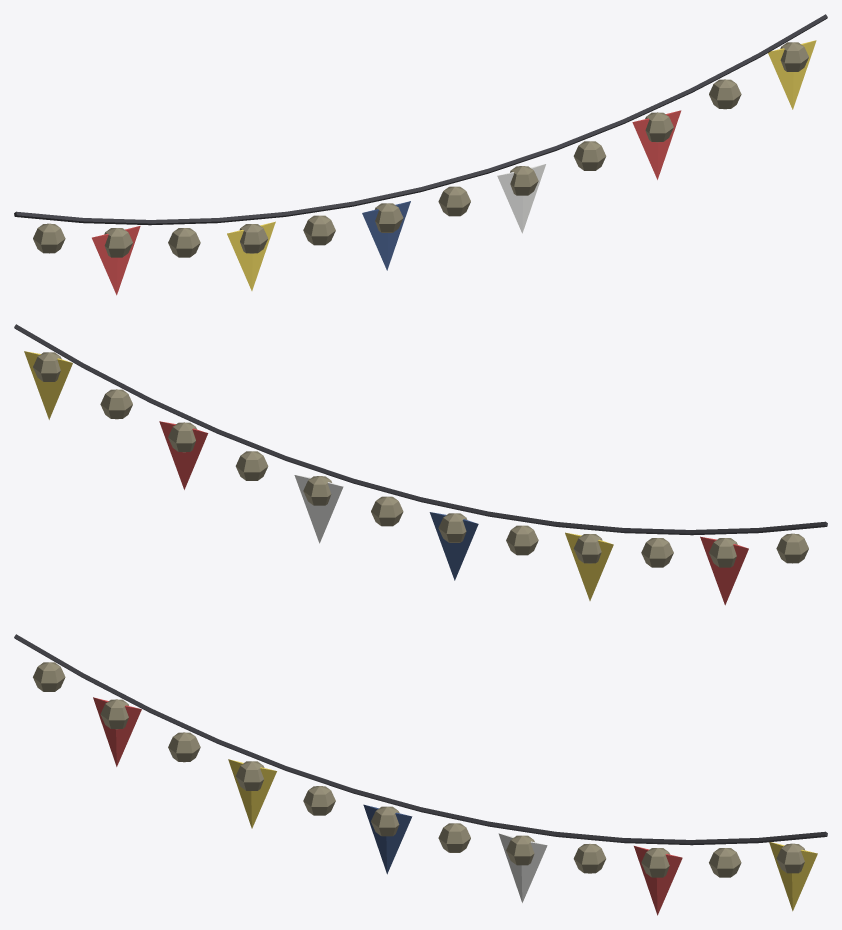
The model's file is CR_Guirnalda.fbx.
3 renders of one model, top to bottom at view 1: azimuth 30°, elevation 25°; view 2: azimuth 150°, elevation 25°; view 3: azimuth 330°, elevation 25°, orthographic.
Visible parts, largest first — view 1: CR_Guirnalda; view 2: CR_Guirnalda; view 3: CR_Guirnalda.
Boxes of the visible parts, x1,y1,x2,y2 form: CR_Guirnalda: (14,14,827,295); CR_Guirnalda: (14,324,827,605); CR_Guirnalda: (14,634,827,915).
Bounding box in the file's own units: 4.01 × 0.7066 × 0.14.
